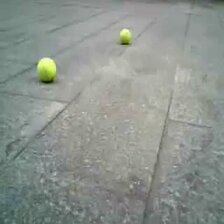tennis: (38, 57, 57, 82), (119, 29, 132, 44)
